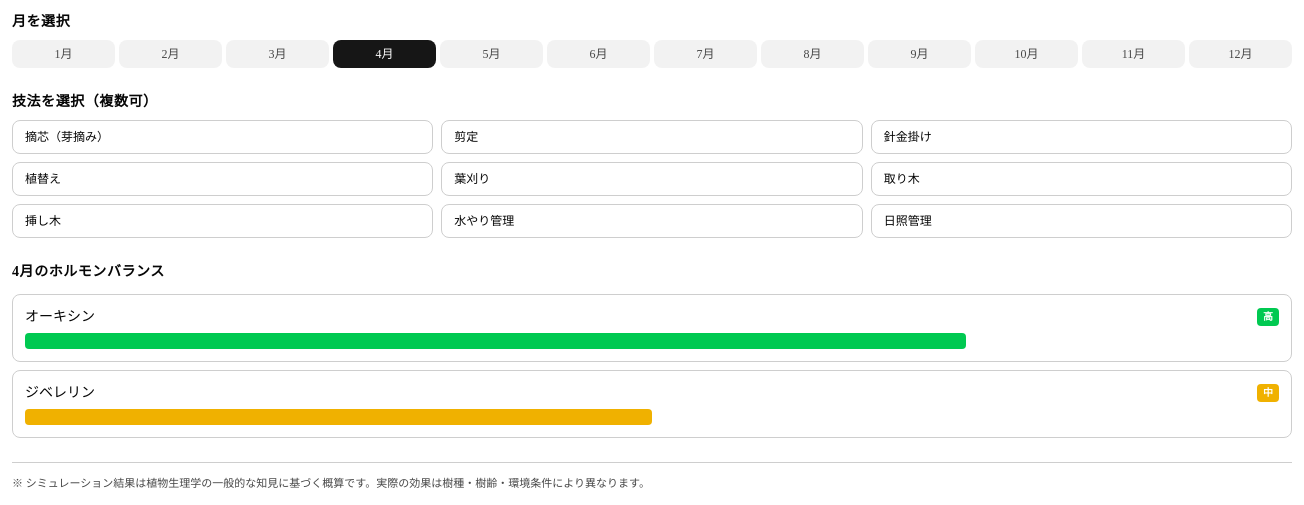
Test case: HormoneBalanceSimulator - 月切り替え › 選択した月のヘッダーラベルが反映される
Expected: the heading "4月のホルモンバランス" is shown, [12,264,165,279]
Click the button "7月" at [706, 54], box [654,40,757,68]
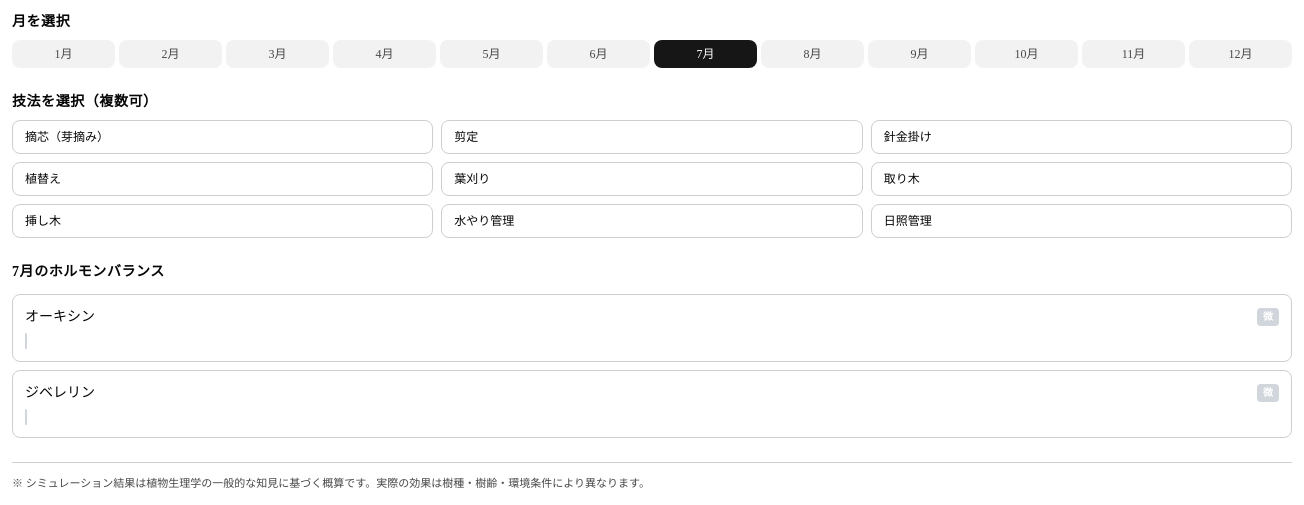
Result: the heading "7月のホルモンバランス" is shown at [12,264,165,279]
